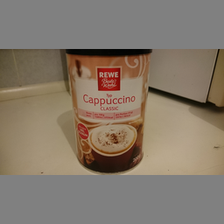coffee: (65, 50, 152, 172)
